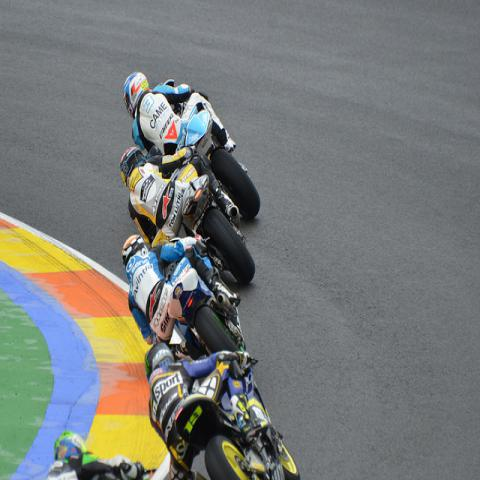motorcycle: (150, 356, 268, 464), (184, 109, 262, 223), (182, 176, 258, 291), (180, 407, 298, 475), (168, 271, 245, 358)
